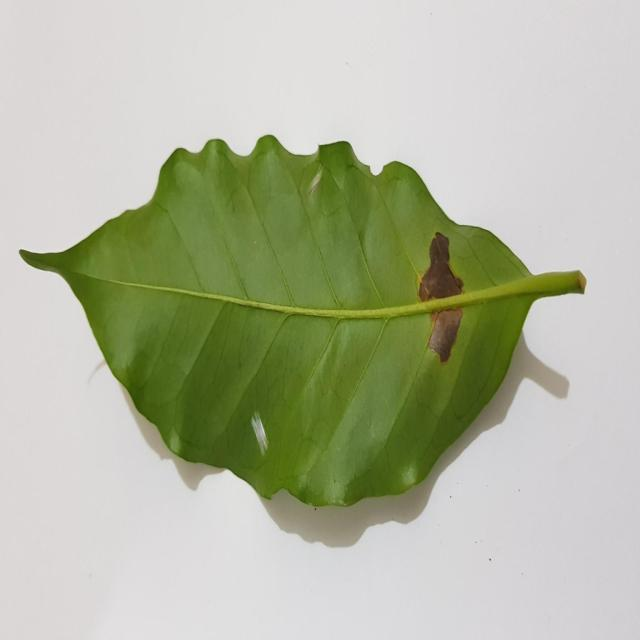miner: (418, 232, 463, 302), (428, 308, 462, 363)
